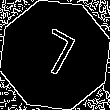L_SW: (29, 26, 81, 84)
